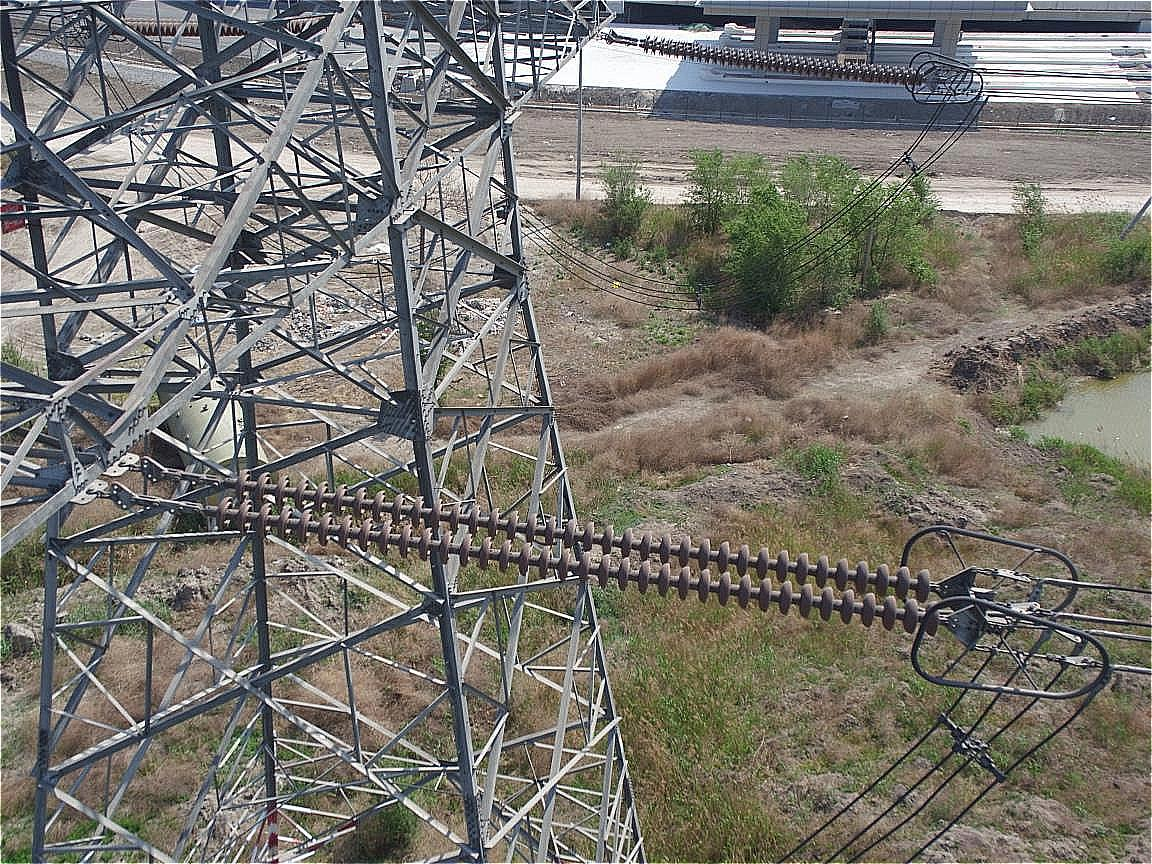insultor1: (168, 466, 952, 641)
insultor2: (635, 30, 941, 98)
